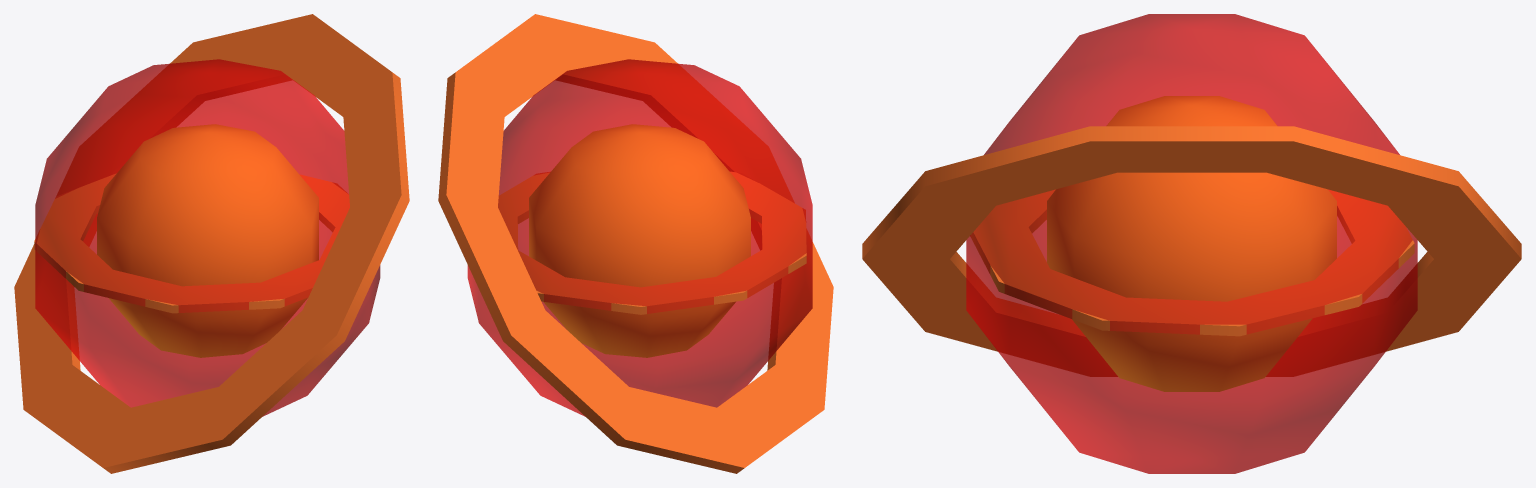
Rendered from Enemy_Attack2.obj.
3 views of the same model, side by side, from view 1: azimuth 30°, elevation 25°; view 2: azimuth 150°, elevation 25°; view 3: azimuth 270°, elevation 25° (orthographic). The views are drawn at different scales.
Visible parts, largest first — view 1: Sphere002, Tube001, Sphere001, Tube002; view 2: Sphere002, Tube001, Sphere001, Tube002; view 3: Sphere002, Tube001, Sphere001, Tube002.
Part boxes in pixels (bbox=[...]): Sphere002: bbox=[35, 59, 380, 416]; Tube001: bbox=[14, 14, 409, 473]; Sphere001: bbox=[97, 124, 318, 357]; Tube002: bbox=[34, 173, 349, 313]; Sphere002: bbox=[467, 59, 812, 416]; Tube001: bbox=[438, 14, 833, 473]; Sphere001: bbox=[529, 124, 750, 357]; Tube002: bbox=[498, 171, 806, 314]; Sphere002: bbox=[966, 14, 1417, 473]; Tube001: bbox=[862, 126, 1521, 376]; Sphere001: bbox=[1047, 96, 1336, 391]; Tube002: bbox=[970, 189, 1414, 336].
Bounding box in the file's own units: 21.37 × 23 × 31.73.
